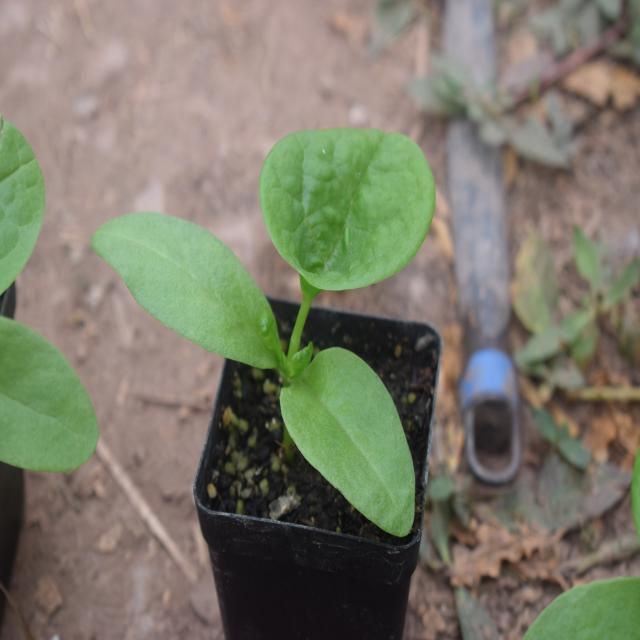Ceylon spinach: (112, 93, 438, 528)
